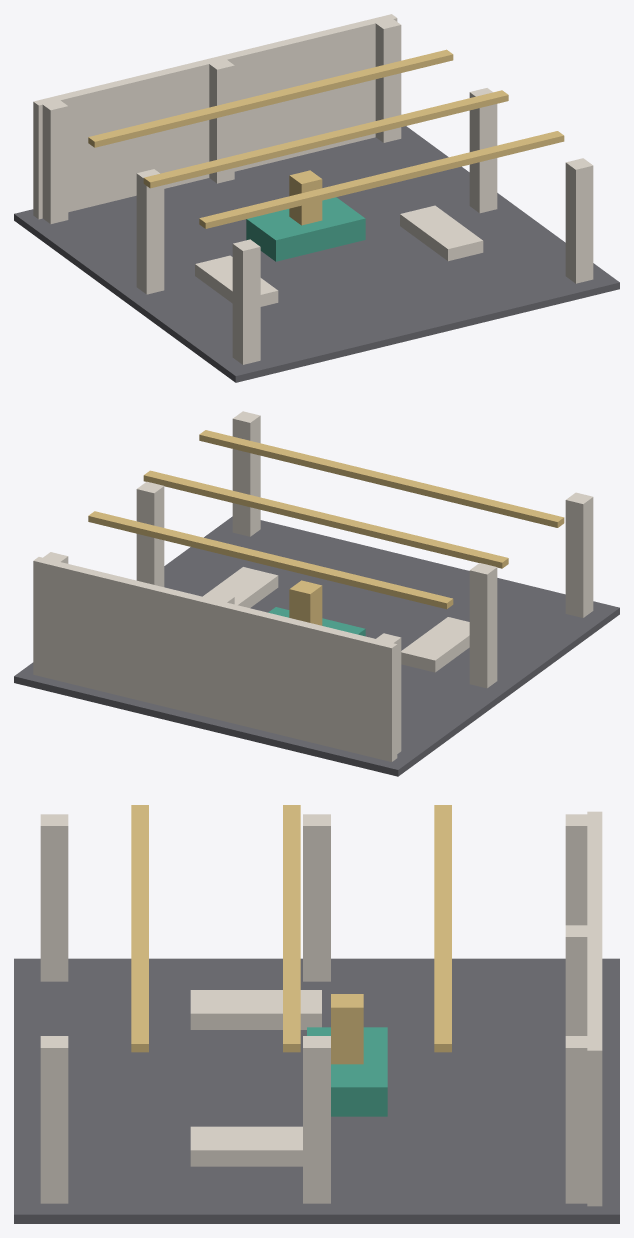
The model's file is spatial_pavilion_1792412121444.glb.
The picture shows the model from 3 angles, top to bottom: view 1: azimuth 30°, elevation 25°; view 2: azimuth 150°, elevation 25°; view 3: azimuth 270°, elevation 25°; orthographic projection. The views are drawn at different scales.
Parts seen in each view (by area): view 1: PavilionRootNode; view 2: PavilionRootNode; view 3: PavilionRootNode.
Part boxes in pixels (bbox=[...]): PavilionRootNode: bbox=[14, 14, 619, 382]; PavilionRootNode: bbox=[14, 411, 619, 776]; PavilionRootNode: bbox=[14, 805, 619, 1223].
Bounding box in the file's own units: 12 × 3.74 × 12.
